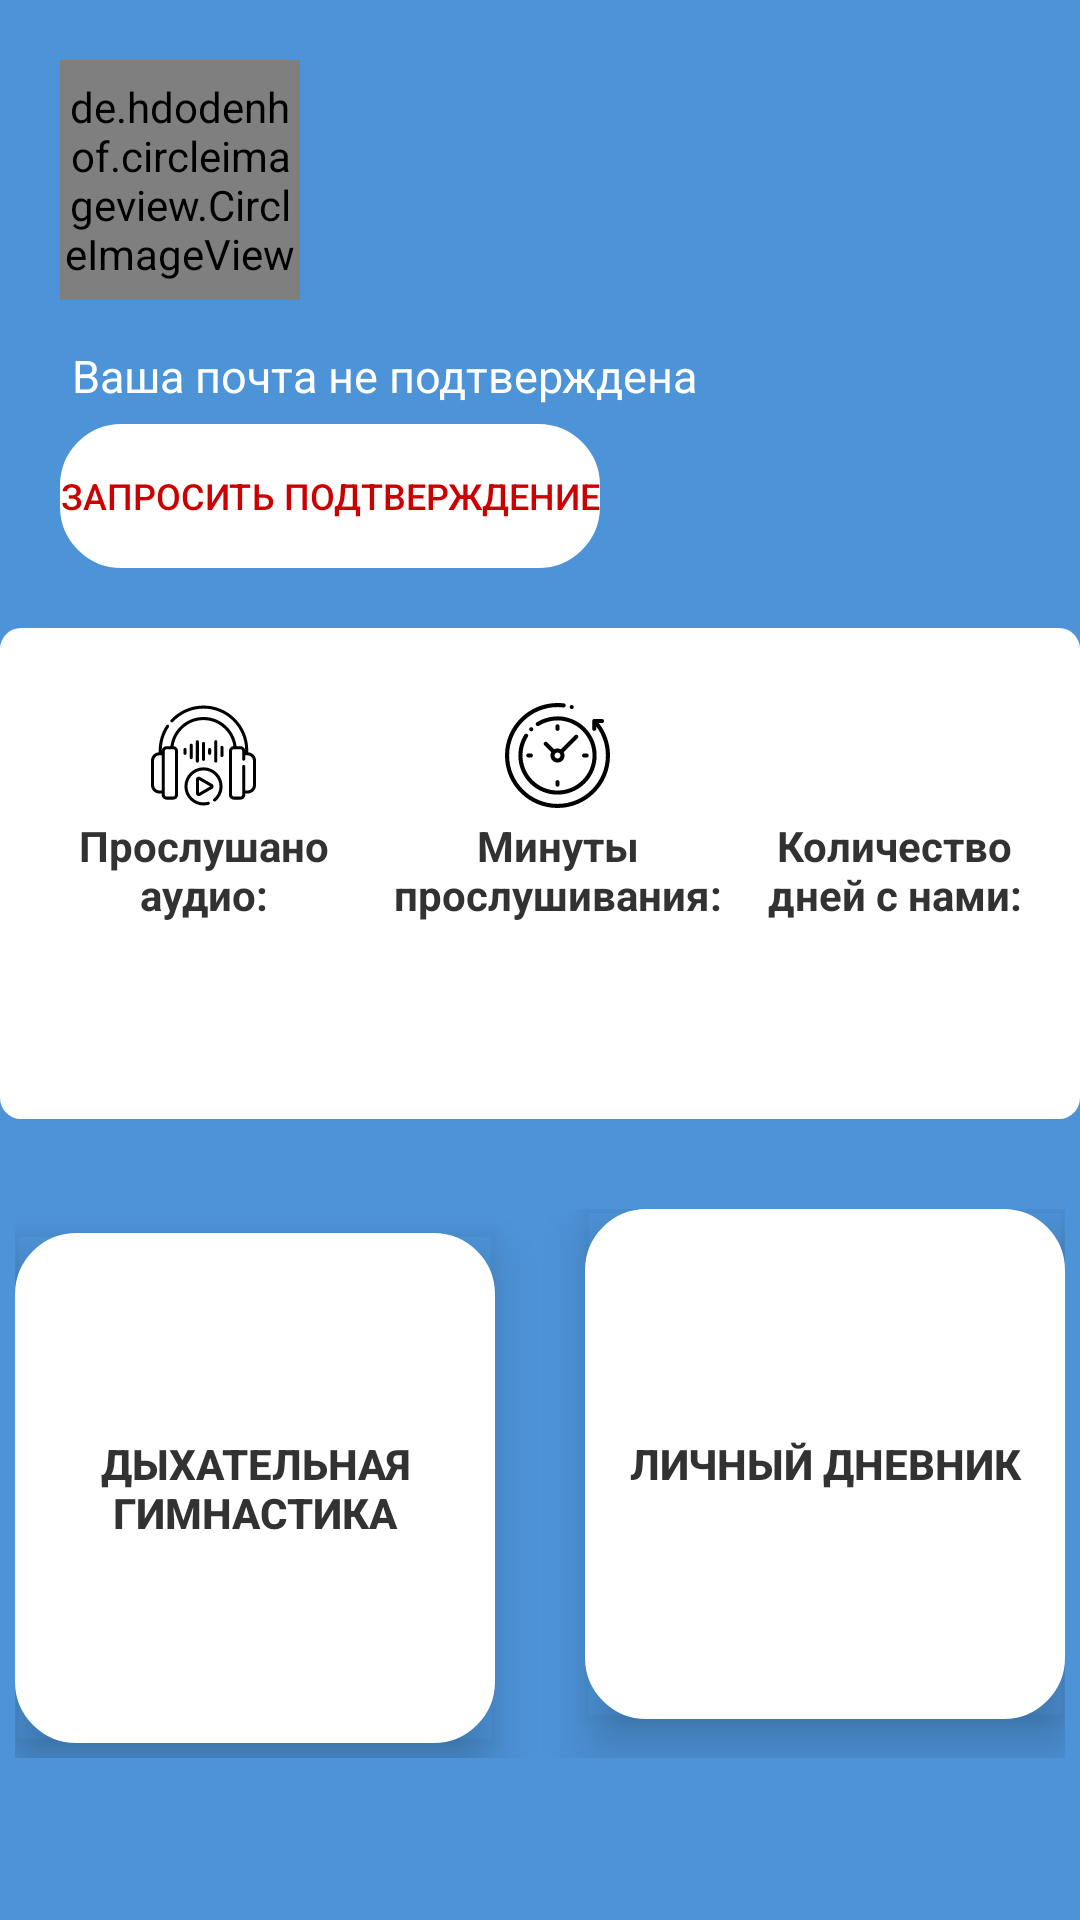

Icon bounding boxes for this 1080 x 1920 phone screenshot, format (x1, y1, x2, y2):
back in time: (505, 703, 610, 808)
